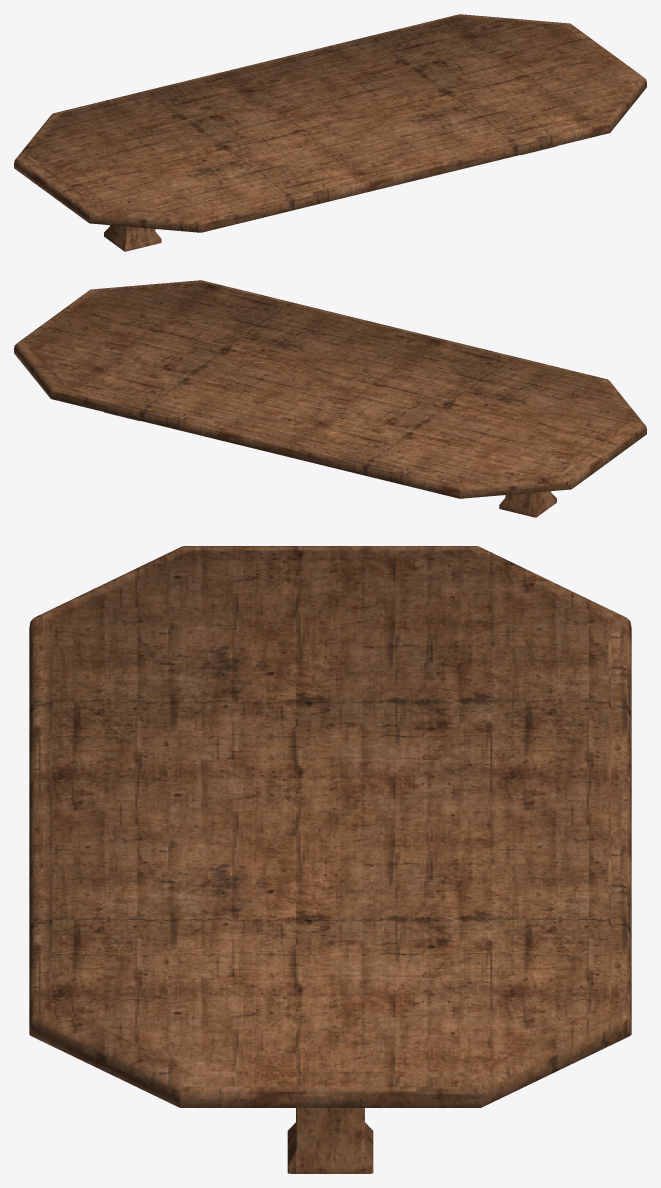
File: _LargeTable_1.FBX
The picture shows the model from 3 angles, top to bottom: view 1: azimuth 30°, elevation 25°; view 2: azimuth 150°, elevation 25°; view 3: azimuth 270°, elevation 25°; orthographic projection. The views are drawn at different scales.
Parts seen in each view (by area): view 1: _LargeTable_1; view 2: _LargeTable_1; view 3: _LargeTable_1.
Boxes of the visible parts, box(x1,y1,x2,y2) form: _LargeTable_1: box(14, 14, 646, 251); _LargeTable_1: box(14, 280, 646, 517); _LargeTable_1: box(29, 546, 631, 1173).
Bounding box in the file's own units: 1500 × 195 × 701.
Materials: 1 (1 with a texture image).
